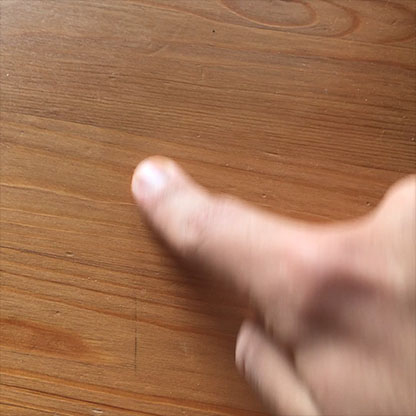fingertip: (119, 146, 191, 215)
